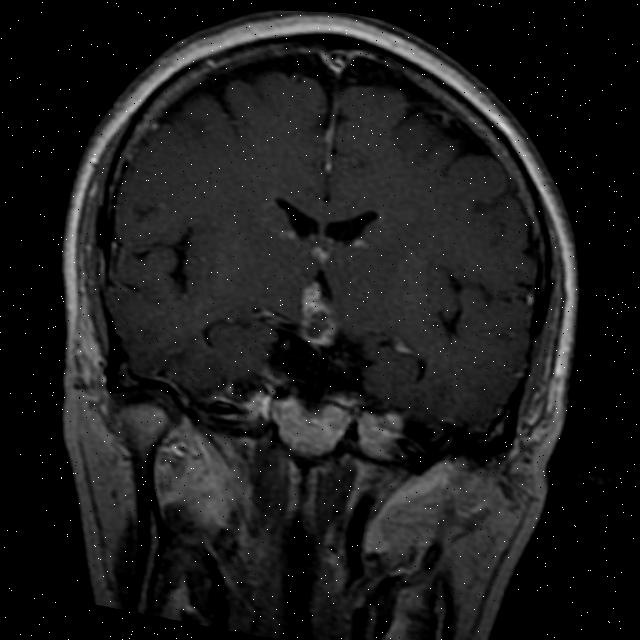Pituitary: (264, 392, 358, 465), (292, 278, 345, 351)
